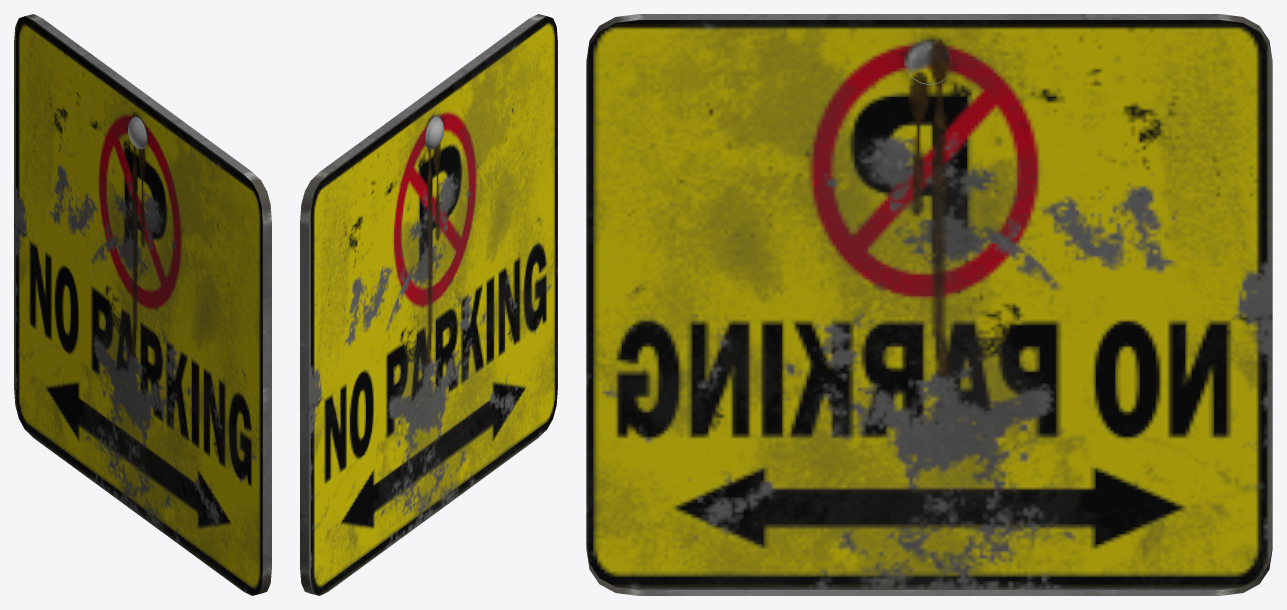
The model's file is Prop_TrafficSign_2.fbx.
3 views of the same model, side by side, from view 1: azimuth 30°, elevation 25°; view 2: azimuth 150°, elevation 25°; view 3: azimuth 270°, elevation 25° (orthographic). The views are drawn at different scales.
Visible parts, largest first — view 1: Prop_TrafficSign_2; view 2: Prop_TrafficSign_2; view 3: Prop_TrafficSign_2.
Part boxes in pixels (x1,y1,x2,y2): Prop_TrafficSign_2: (14, 14, 271, 595); Prop_TrafficSign_2: (300, 14, 557, 595); Prop_TrafficSign_2: (586, 14, 1272, 595).
Size of the model in its own units: 0.7787 by 19.81 by 21.4.
